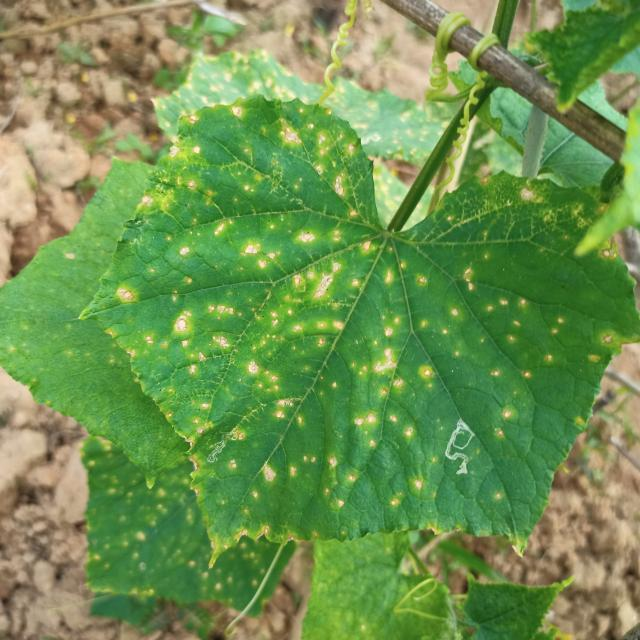disease_cucumber: (133, 112, 558, 550)
